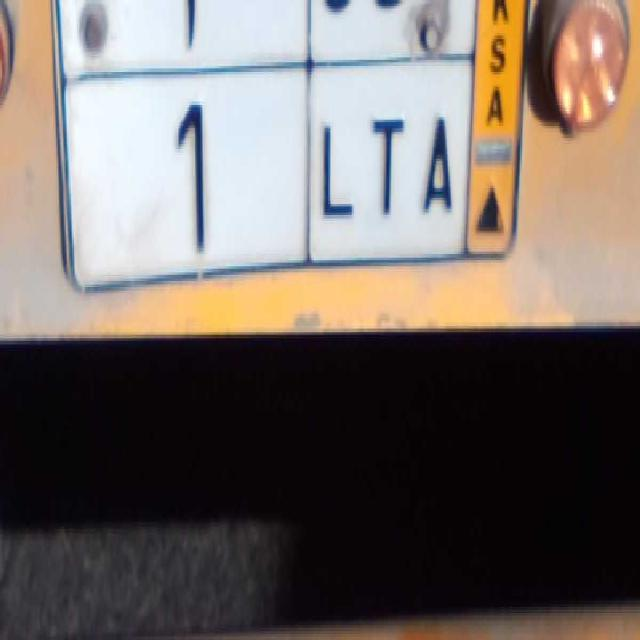license_plate: (64, 65, 472, 275)
